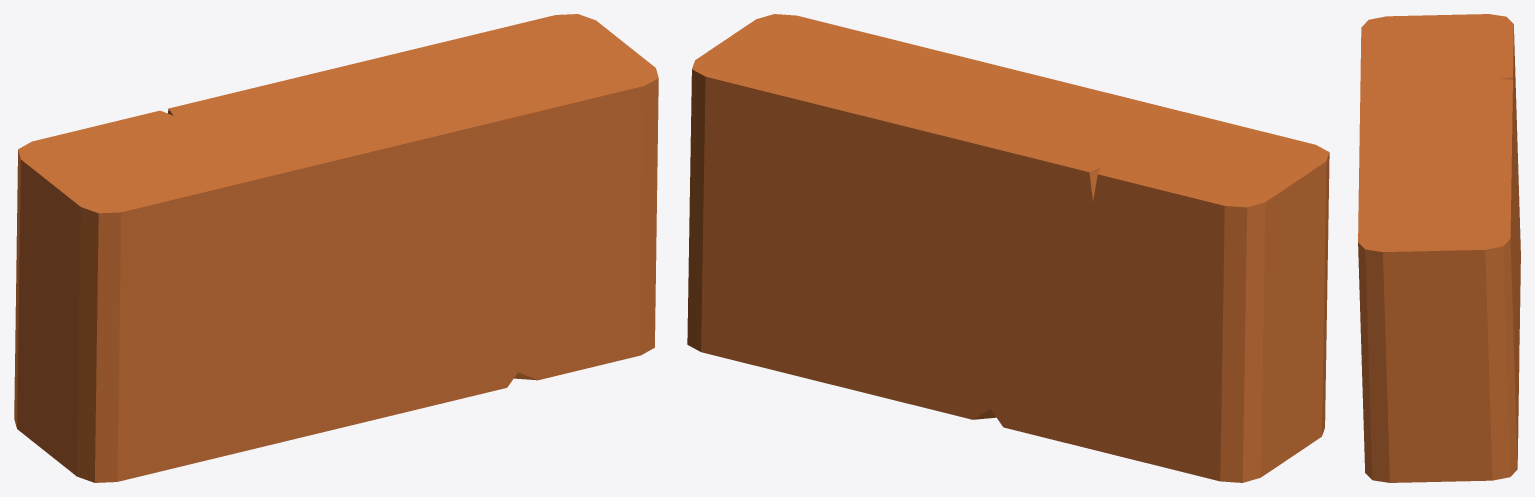
Rendered from brick_001.glb.
The picture shows the model from 3 angles, left to right: view 1: azimuth 30°, elevation 25°; view 2: azimuth 150°, elevation 25°; view 3: azimuth 270°, elevation 25°; orthographic projection. The views are drawn at different scales.
Visible parts, largest first — view 1: brick.001; view 2: brick.001; view 3: brick.001.
Part boxes in pixels (left/top/right/bottom): brick.001: left=14, top=14, right=658, bottom=482; brick.001: left=687, top=14, right=1329, bottom=482; brick.001: left=1358, top=14, right=1520, bottom=482.
Bounding box in the file's own units: 1.41 × 0.6509 × 0.4089.
1 material, 1 textured.
